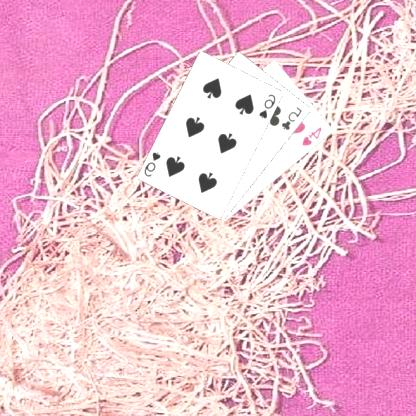4H: (301, 124, 326, 147)
5C: (281, 104, 306, 132)
6S: (258, 91, 279, 120), (144, 149, 165, 178)
